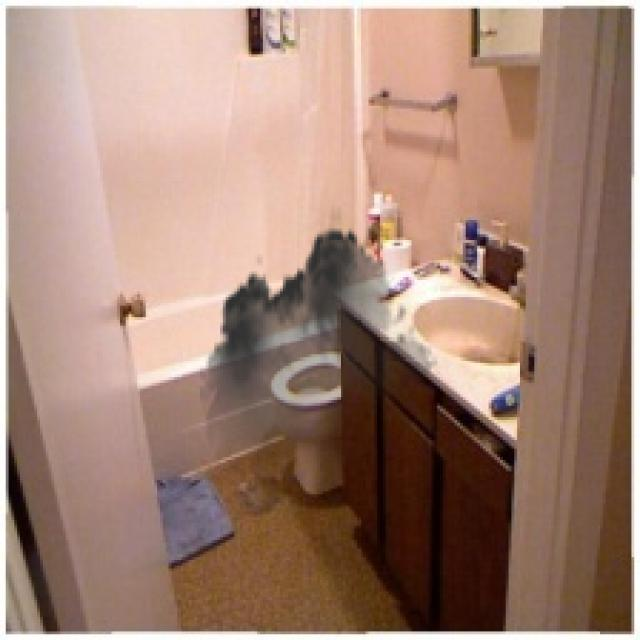smoke: (200, 217, 440, 494)
